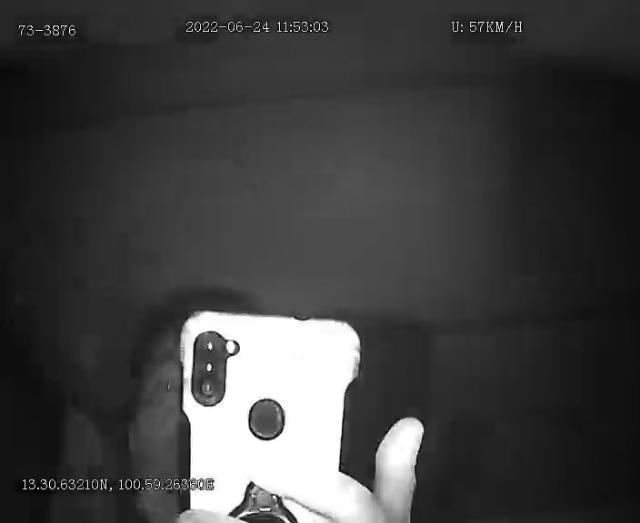PhoneUse: (178, 310, 362, 523)
